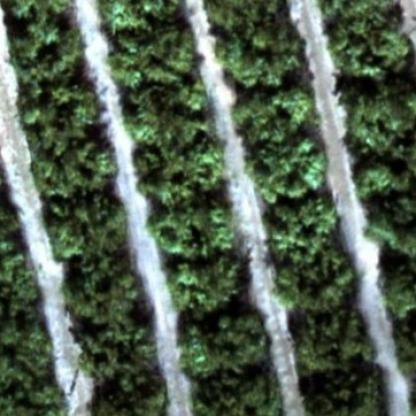Canopy-Citrus: (134, 131, 226, 201), (179, 304, 269, 375), (122, 80, 214, 142), (290, 306, 375, 370), (30, 136, 116, 198), (147, 198, 235, 258), (76, 324, 161, 386), (46, 197, 128, 260), (244, 142, 327, 204), (271, 250, 355, 310), (19, 86, 102, 146), (340, 94, 415, 160), (62, 261, 140, 324), (211, 35, 307, 85), (327, 30, 415, 84), (10, 26, 88, 86), (108, 34, 198, 86), (192, 366, 284, 415), (297, 366, 388, 415), (168, 250, 242, 310), (231, 90, 315, 142), (263, 199, 339, 256), (205, 0, 293, 38), (88, 374, 168, 415), (97, 0, 185, 37), (320, 0, 405, 37), (354, 157, 412, 208), (364, 204, 416, 258), (377, 257, 415, 322), (2, 0, 82, 28)
